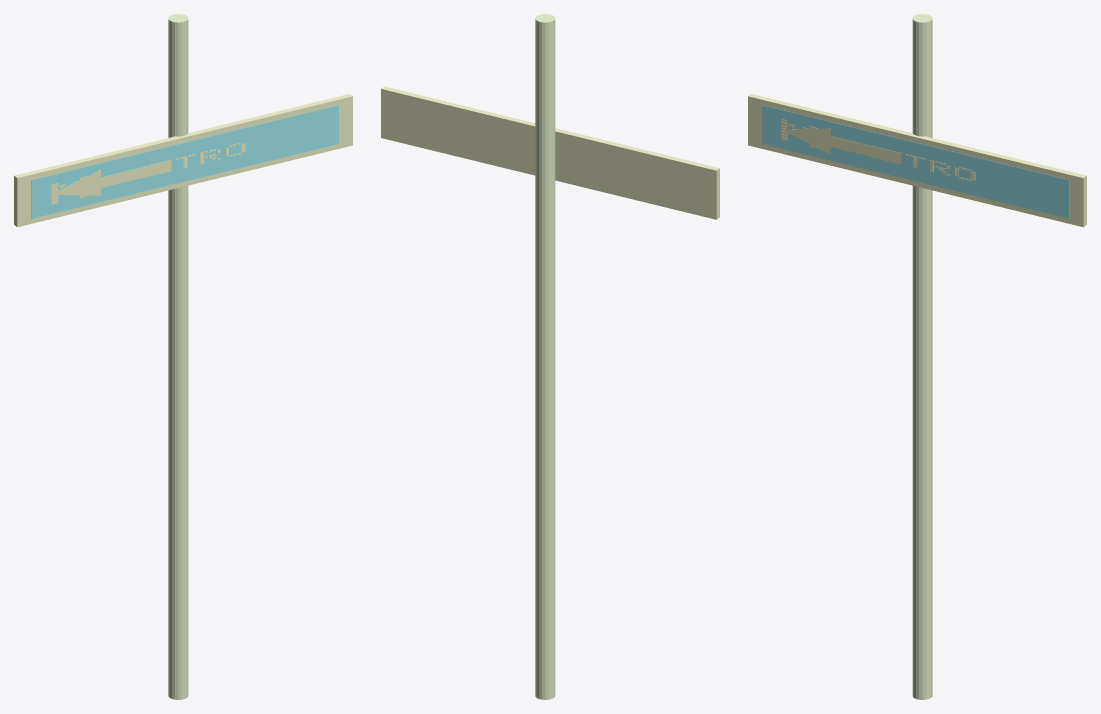
Rendered from sign_metro_arrow_left.glb.
3 renders of one model, left to right at view 1: azimuth 30°, elevation 25°; view 2: azimuth 150°, elevation 25°; view 3: azimuth 330°, elevation 25°, orthographic.
Parts seen in each view (by area): view 1: pole, layer_1_00, plate_base_00, layer_2_99, layer_2_100; view 2: plate_base_00, pole; view 3: pole, layer_1_00, plate_base_00, layer_2_99, layer_2_100.
Part boxes in pixels (box(x1,y1,x2,y2)): pole: box(168, 14, 188, 699); layer_1_00: box(31, 105, 338, 218); plate_base_00: box(14, 94, 352, 227); layer_2_99: box(101, 160, 171, 187); layer_2_100: box(54, 170, 100, 195); plate_base_00: box(381, 86, 719, 219); pole: box(535, 14, 555, 699); pole: box(912, 14, 932, 699); layer_1_00: box(762, 105, 1069, 218); plate_base_00: box(748, 94, 1086, 227); layer_2_99: box(830, 136, 901, 163); layer_2_100: box(781, 128, 830, 154).
Bounding box in the file's own units: 1.14 × 2.2 × 0.0725.
